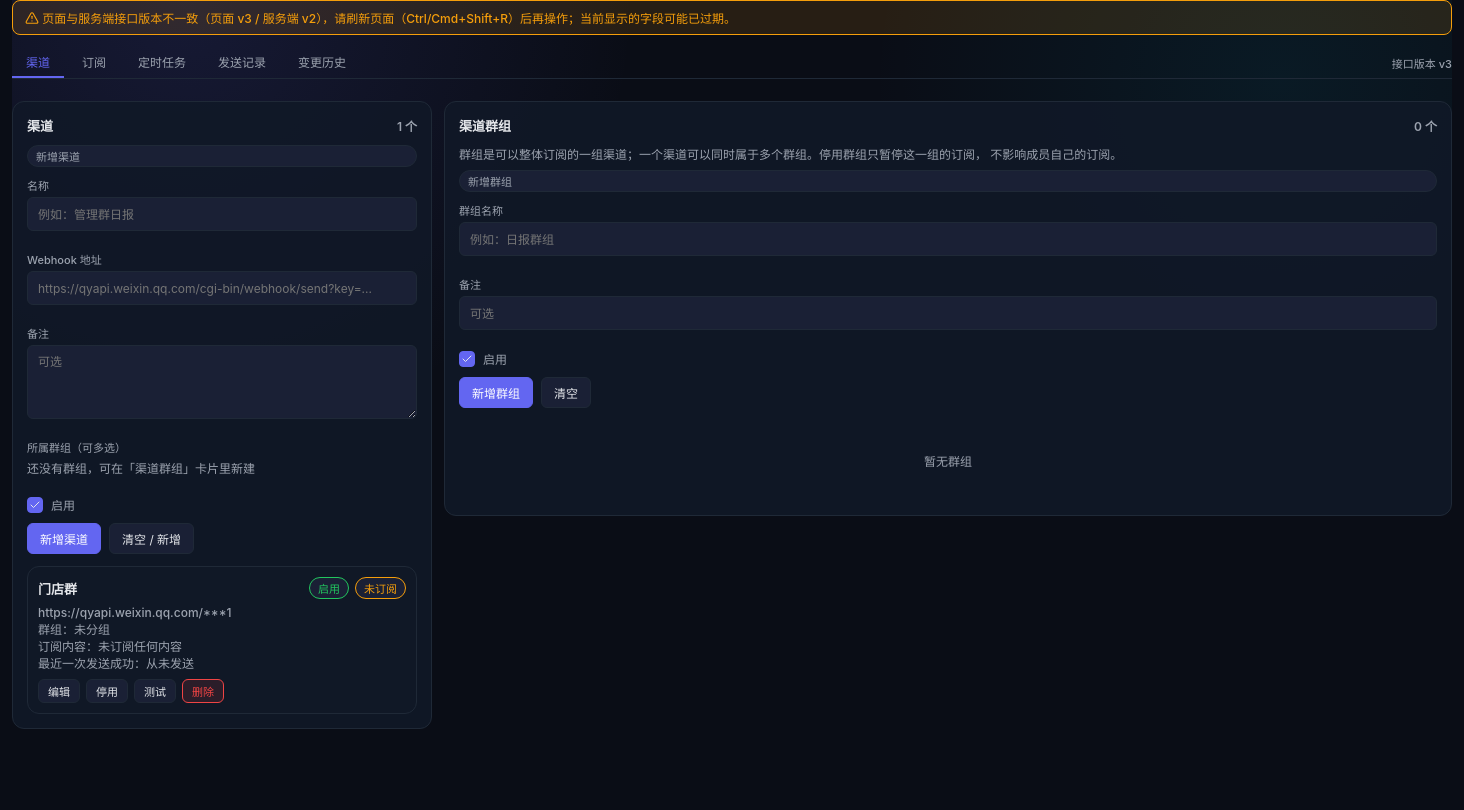
Scenario: 发送记录 tab 的列表 › 每行显示时间 / 目标渠道 / 内容类型 / 状态 / 字节数 / 尝试次数 / 最后一次错误
Click the button "发送记录" at (242,62), box [204,47,280,78]
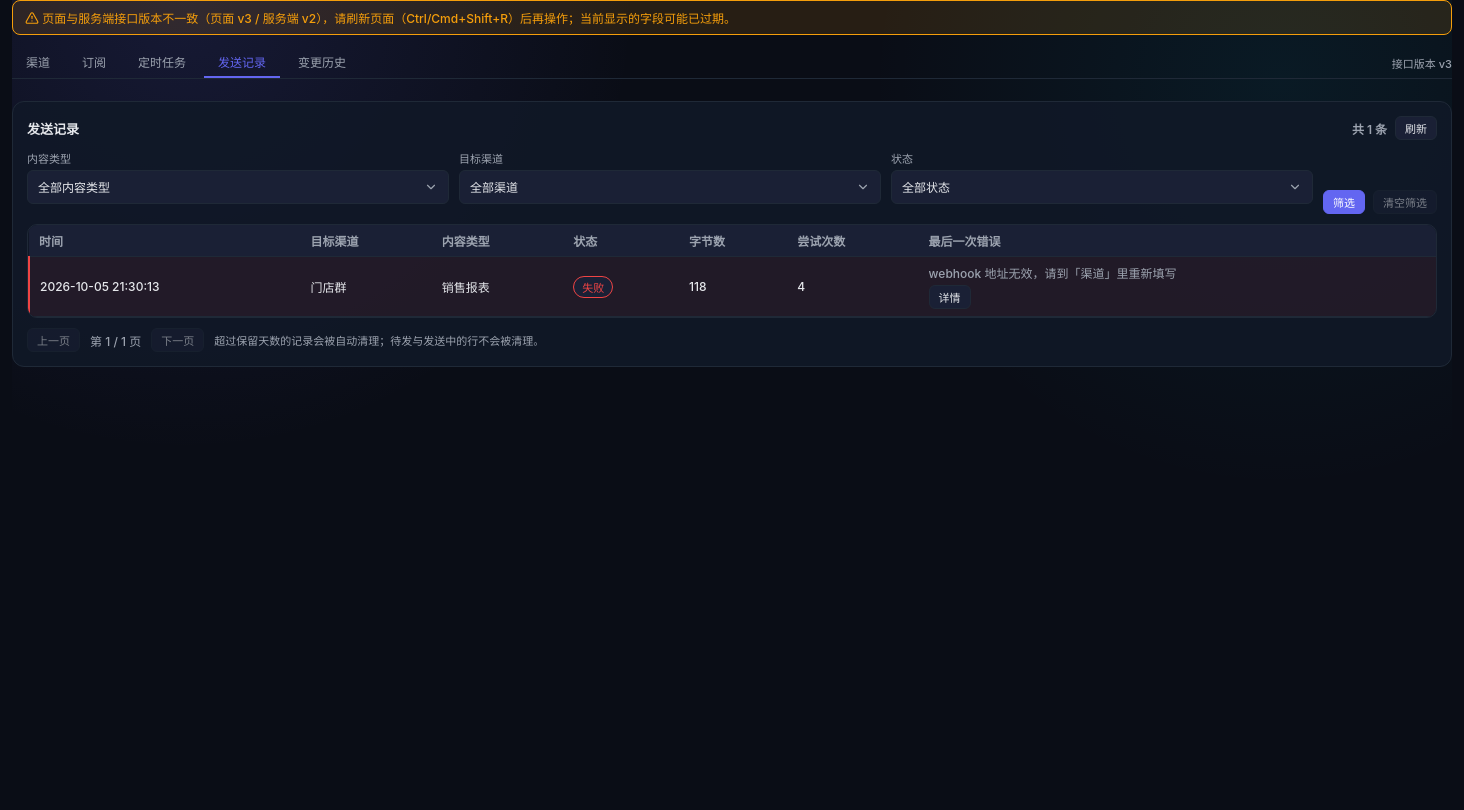
Check: the table with class "data-table" is shown, box [28,225,1436,317]
Check: the cell "webhook 地址无效，请到「渠道」里重新填写 详情" is shown, box [919,256,1436,316]
